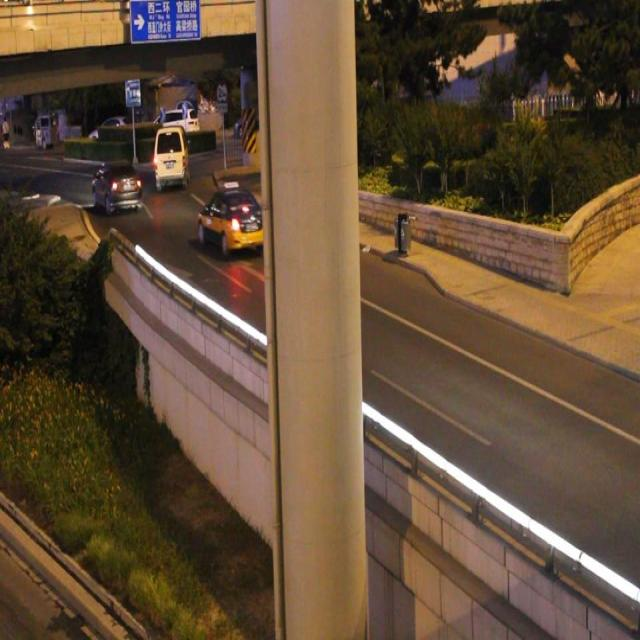car: (196, 180, 267, 256), (91, 159, 143, 214)
truck: (153, 125, 190, 187)
